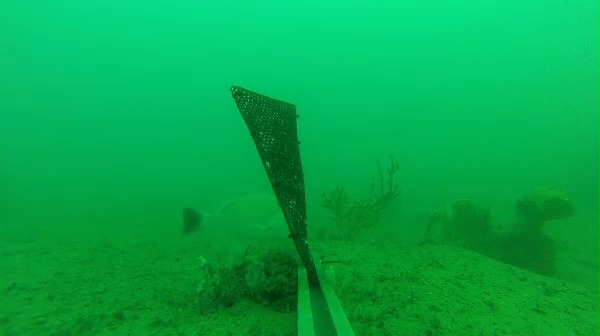fish: (176, 189, 272, 243)
